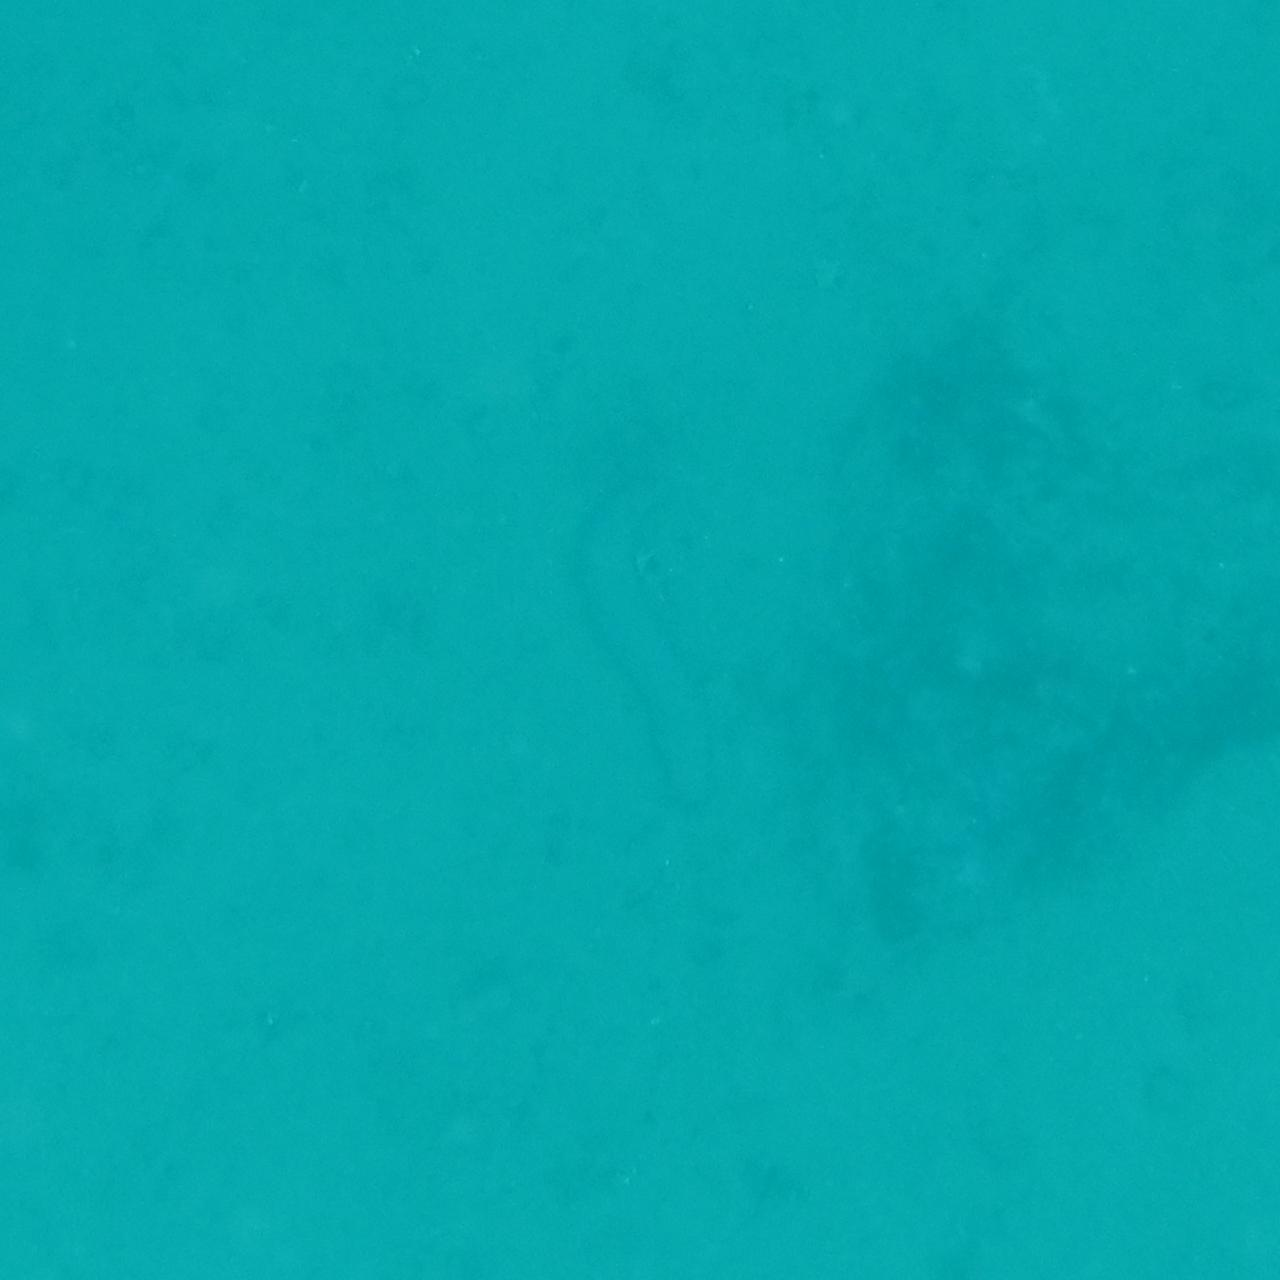Holothuria tubulosa: (560, 462, 720, 818)
